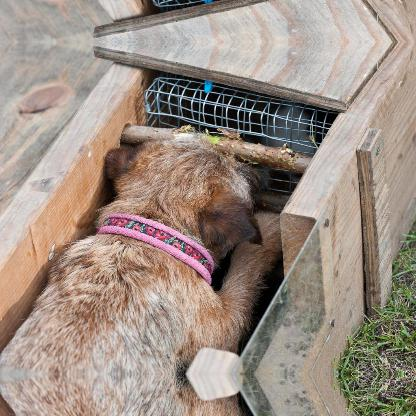Dog: (0, 136, 280, 372)
